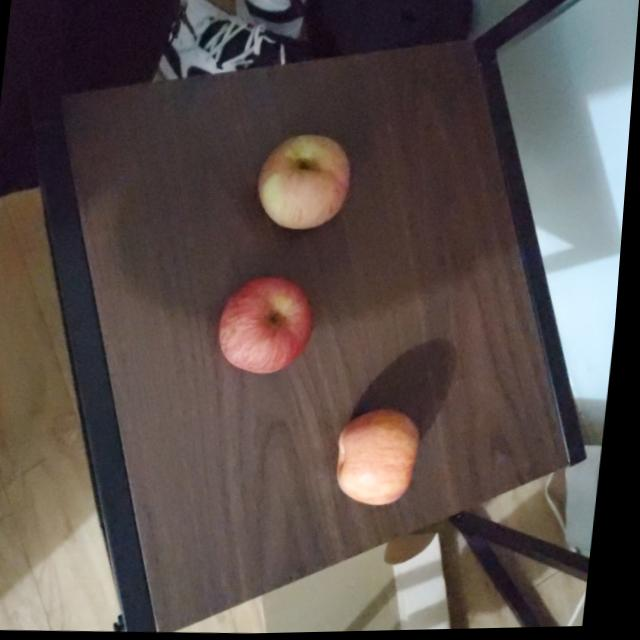apple: (254, 132, 358, 234), (219, 275, 321, 377), (341, 409, 429, 508)
